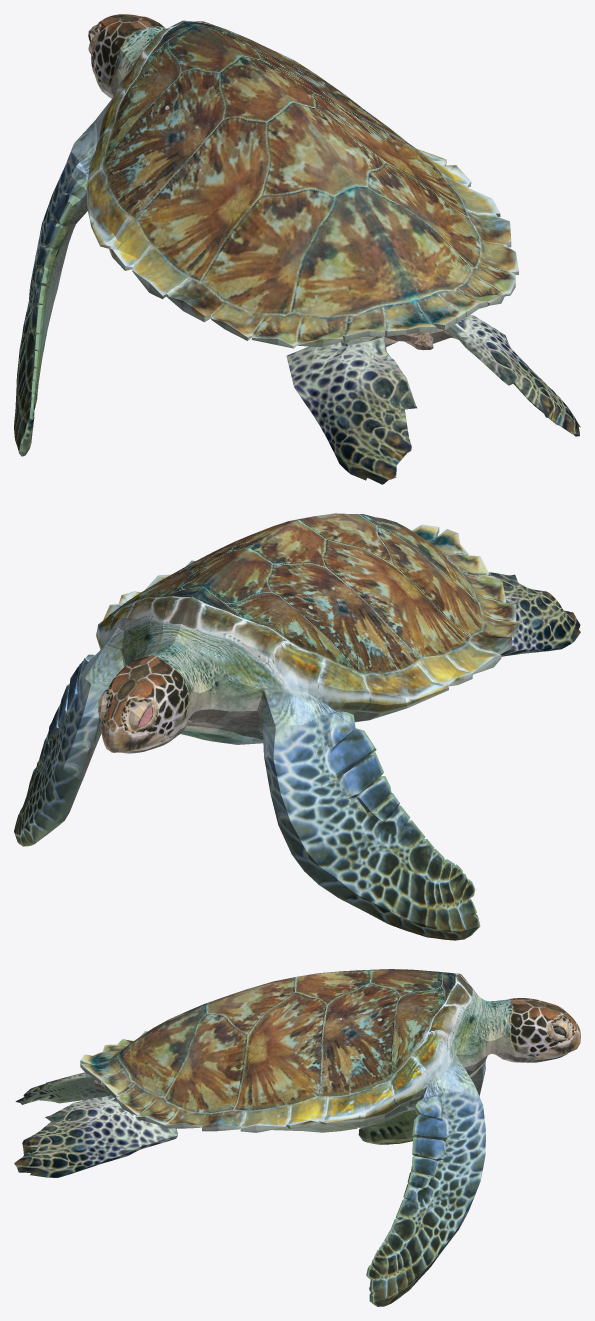
File: frame_12.obj
3 renders of one model, top to bottom at view 1: azimuth 30°, elevation 25°; view 2: azimuth 150°, elevation 25°; view 3: azimuth 270°, elevation 25°, orthographic. The views are drawn at different scales.
Parts seen in each view (by area): view 1: Turtle GEO Turtle; view 2: Turtle GEO Turtle; view 3: Turtle GEO Turtle.
Part boxes in pixels (bbox=[...]): Turtle GEO Turtle: bbox=[14, 14, 580, 484]; Turtle GEO Turtle: bbox=[14, 513, 580, 940]; Turtle GEO Turtle: bbox=[14, 969, 580, 1306].
Size of the model in its own units: 68.82 by 48.87 by 98.68.
1 material, 1 textured.
